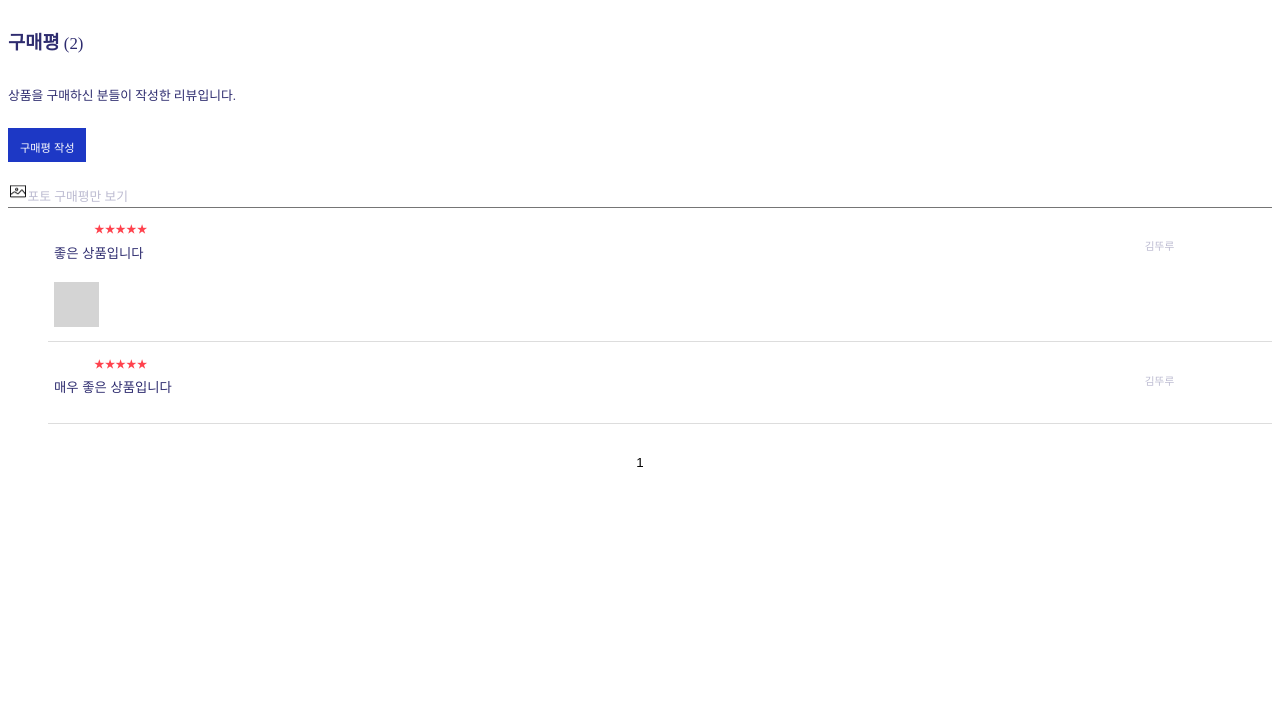
Test case: ReviewSection › 구매평 클릭 › 로그인을 하고 내가 작성한 구매평을 클릭했을 경우 › 수정과 삭제 버튼을 그리고 댓글을 남기는 폼을 볼 수 있다
Click the button with class "review-open" showing "★ ★ ★ ★ ★ 좋은 상품입니다 김뚜루" at (99, 254), box [48,220,1272,328]
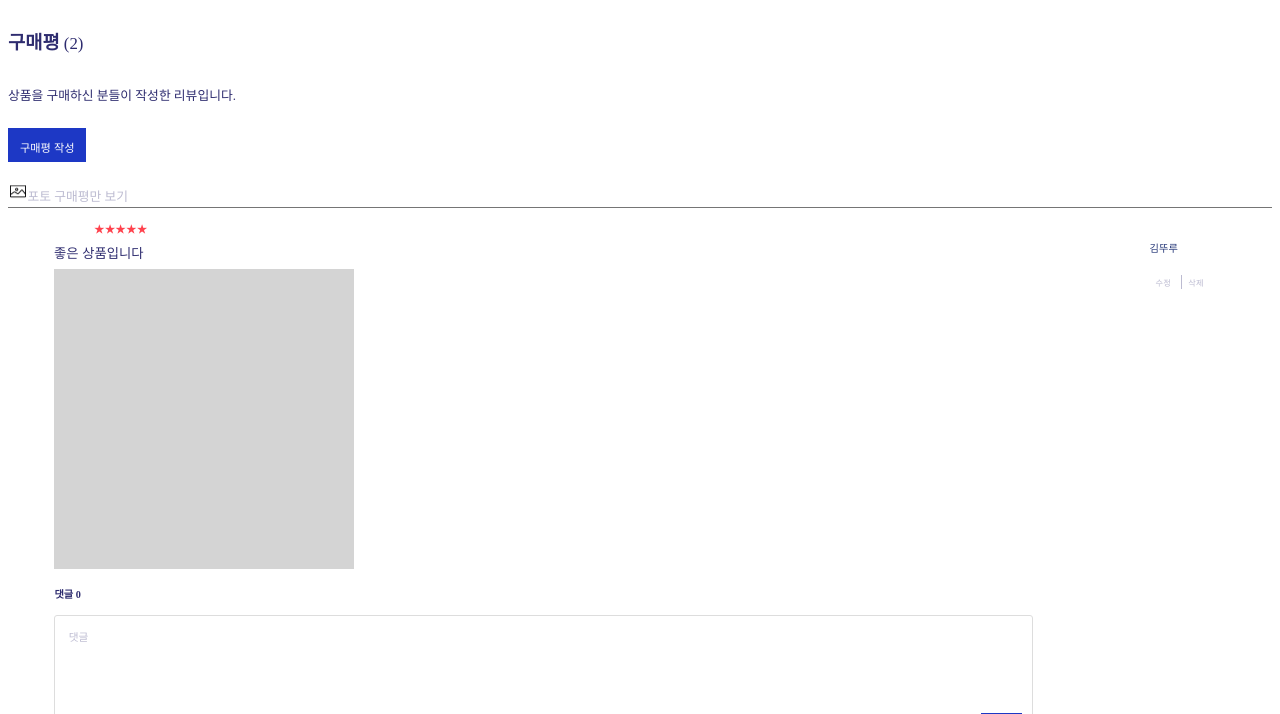
Check: the text box with placeholder "댓글" is shown, box [55,623,1032,703]
Check: the button "삭제" is shown, box [1182,275,1215,289]
Check: the button "수정" is shown, box [1150,275,1182,289]
